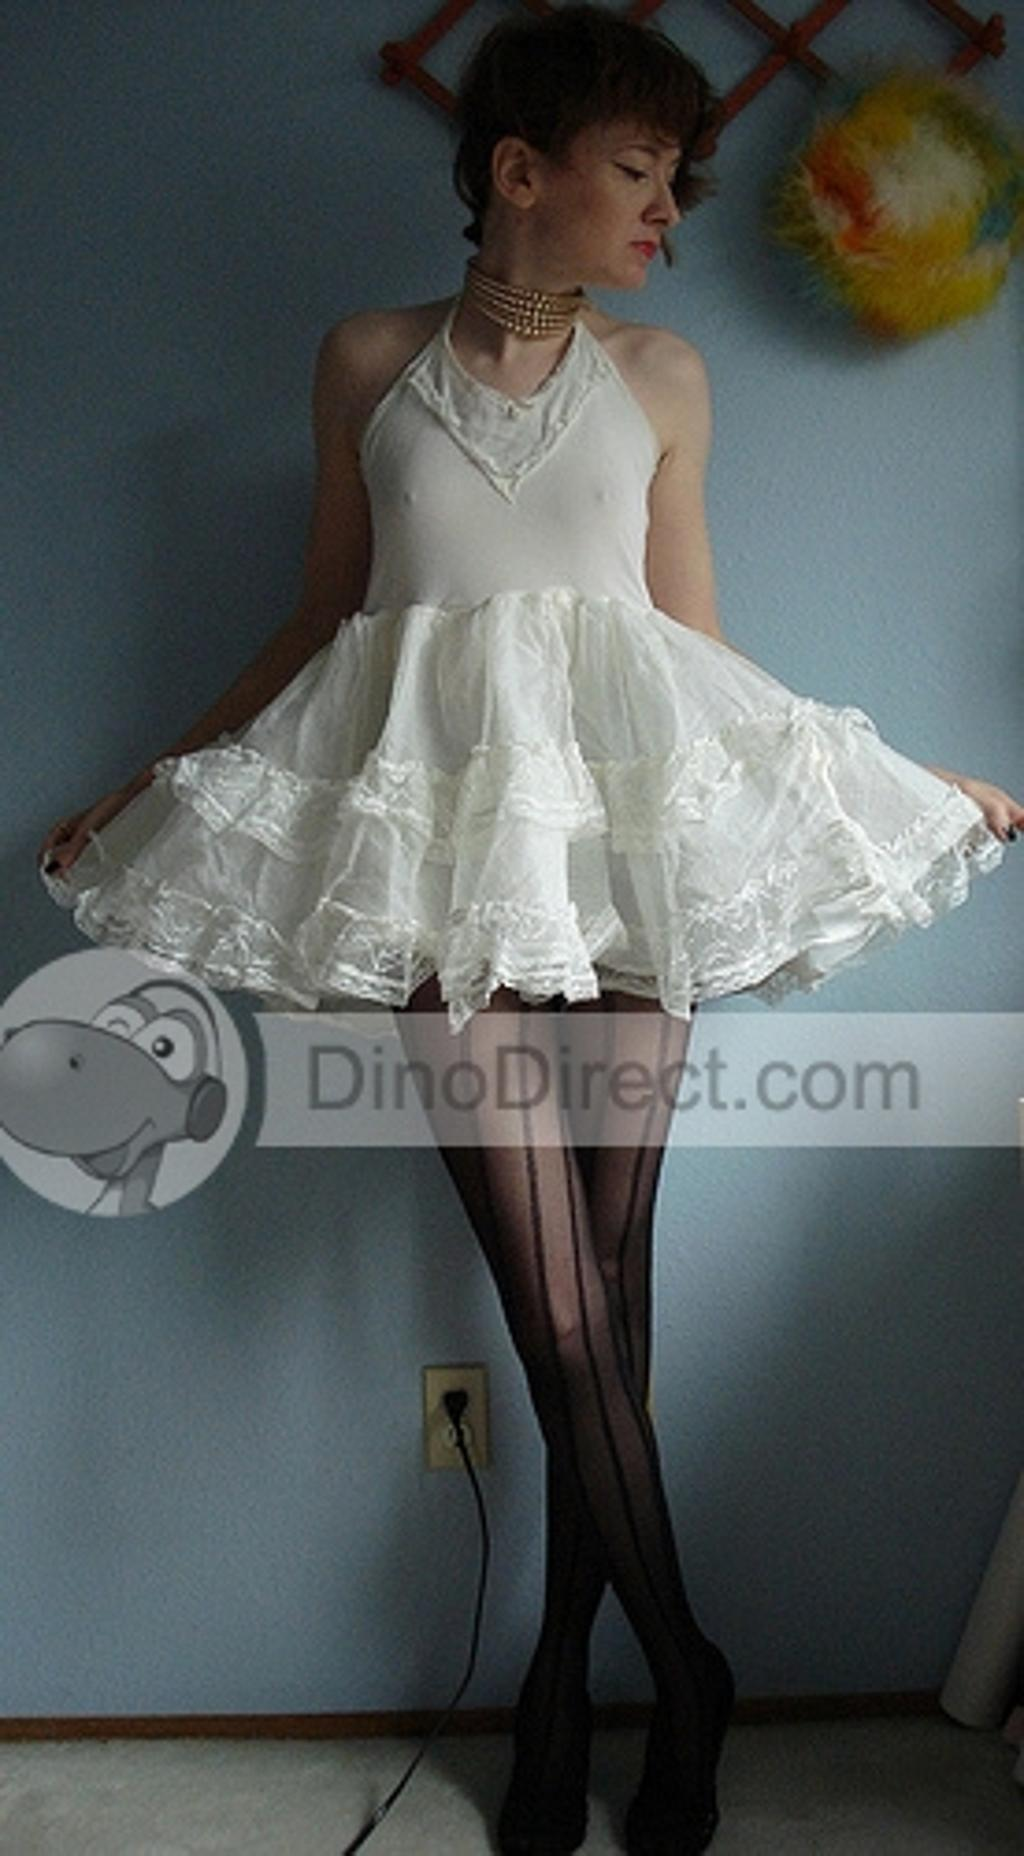face: (551, 88, 685, 287)
